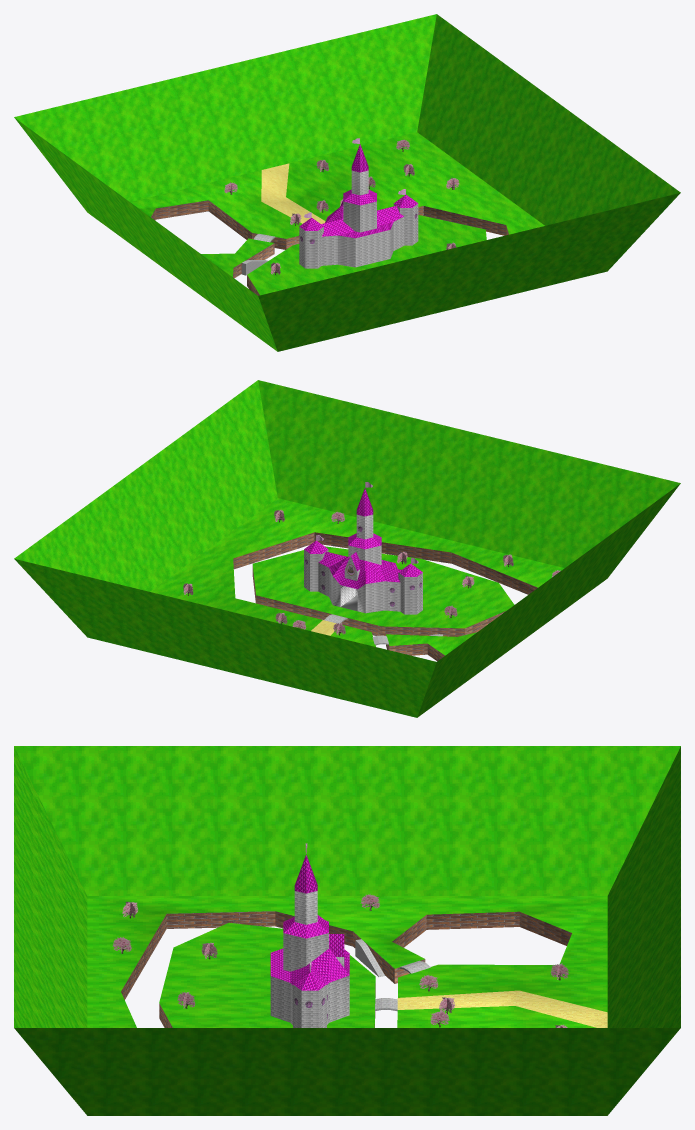
File: castle.obj
The picture shows the model from 3 angles, top to bottom: view 1: azimuth 30°, elevation 25°; view 2: azimuth 150°, elevation 25°; view 3: azimuth 270°, elevation 25°; orthographic projection. The views are drawn at different scales.
Visible parts, largest first — view 1: Castle; view 2: Castle; view 3: Castle.
Part boxes in pixels (<box>): Castle: <box>14,14,680,351</box>; Castle: <box>14,380,680,717</box>; Castle: <box>14,746,680,1115</box>.
Bounding box in the file's own units: 153 × 44.3 × 153.
